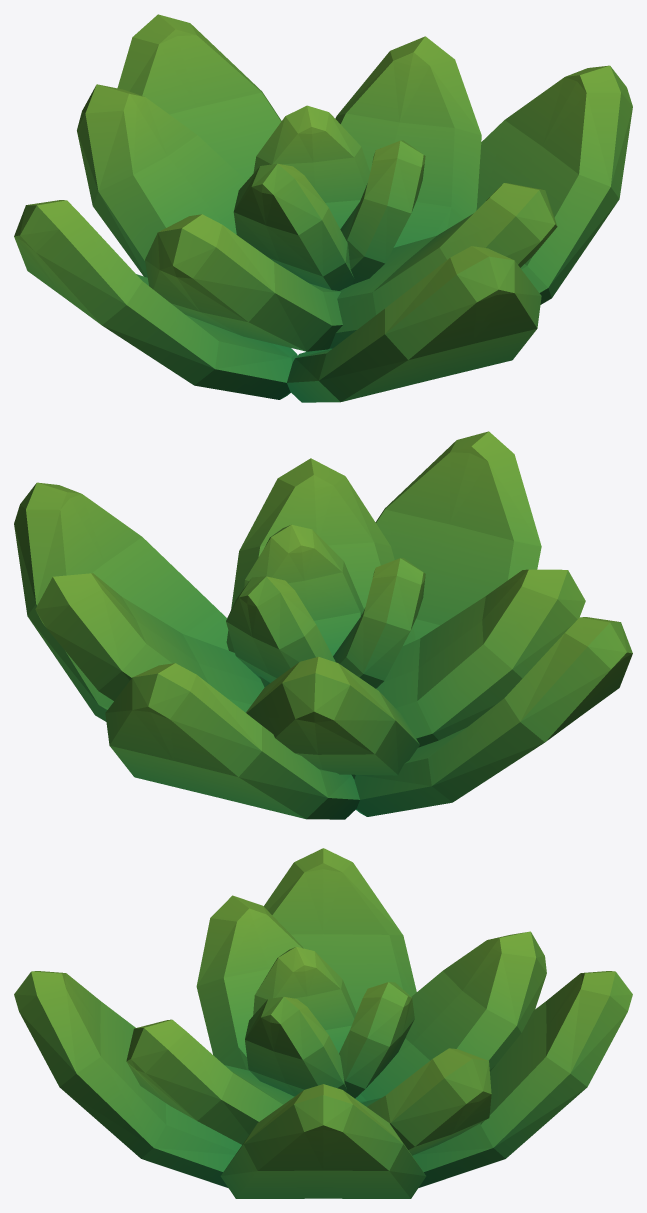
The model's file is rosette-flat.glb.
3 views of the same model, one above another, from view 1: azimuth 30°, elevation 25°; view 2: azimuth 150°, elevation 25°; view 3: azimuth 270°, elevation 25° (orthographic). The views are drawn at different scales.
Parts seen in each view (by area): view 1: plant; view 2: plant; view 3: plant.
Boxes of the visible parts, box(x1,y1,x2,y2) form: plant: box(14, 14, 632, 402); plant: box(14, 431, 632, 819); plant: box(14, 848, 632, 1198).
Size of the model in its own units: 0.626 by 0.2174 by 0.626.
